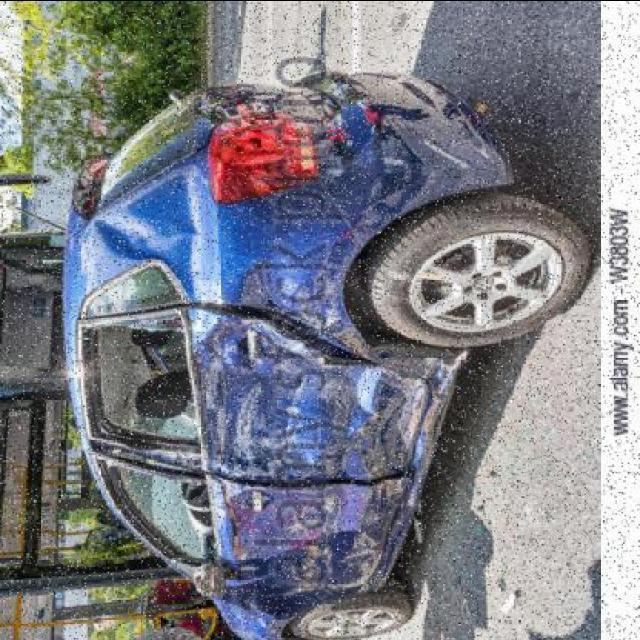doorouter-dent: (200, 345, 404, 476), (214, 482, 390, 593)
quaterpanel-dent: (200, 178, 418, 334)
